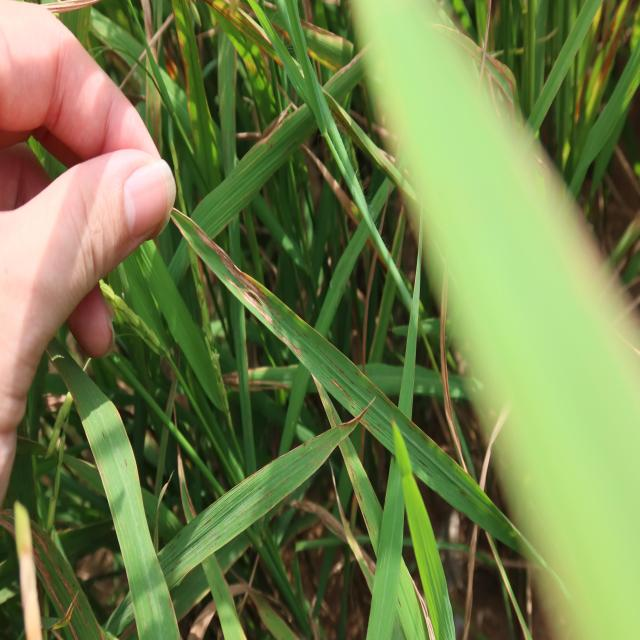Dom soc vi khuan: (182, 224, 276, 333)
